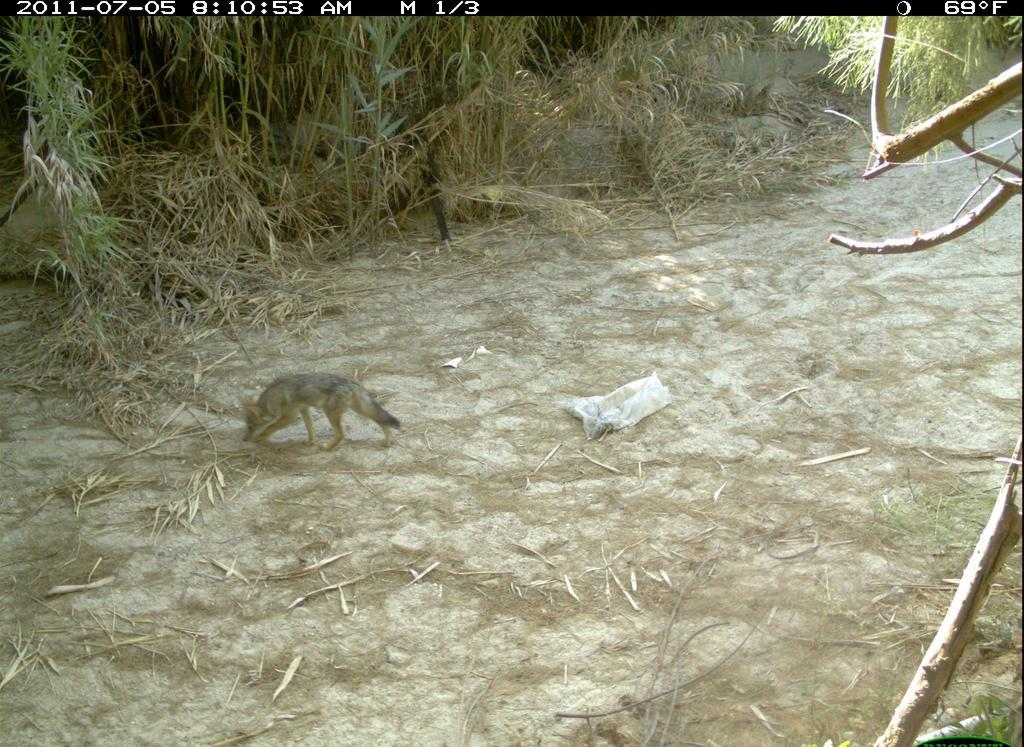coyote: (236, 370, 409, 456)
